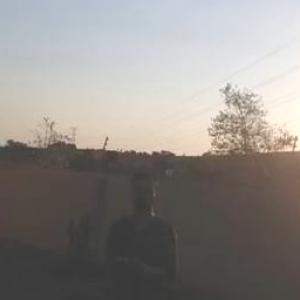follow: (102, 164, 189, 299)
